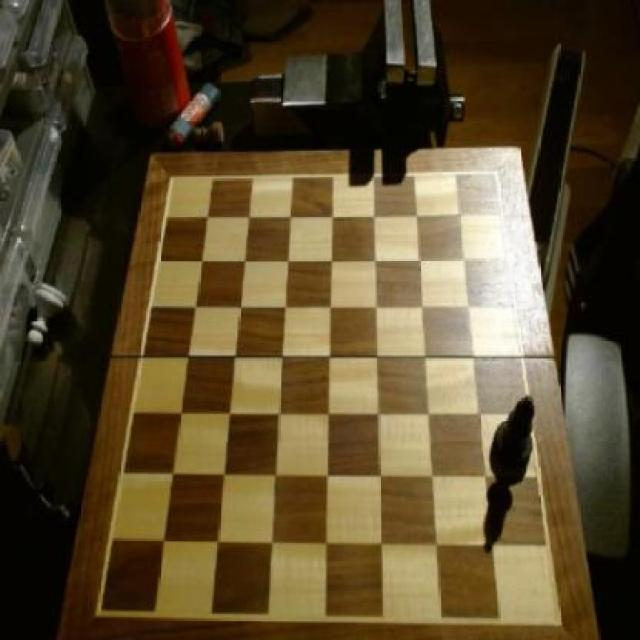bishop: (492, 391, 536, 482)
